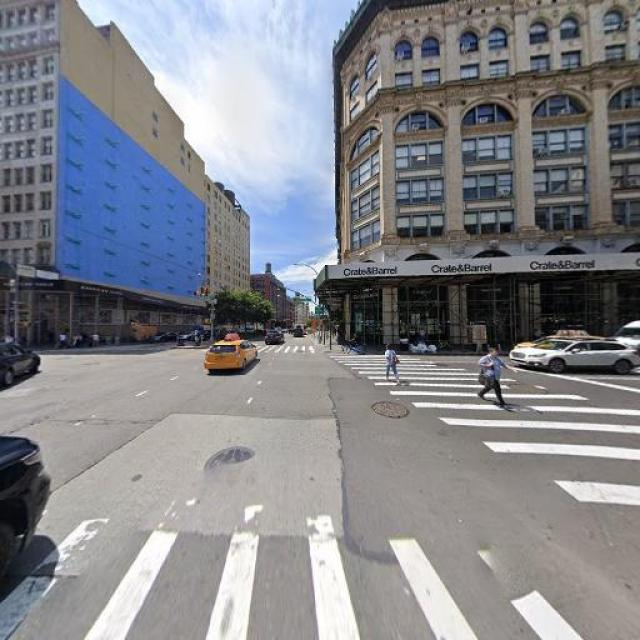Building: (339, 1, 640, 339), (1, 1, 250, 339)
